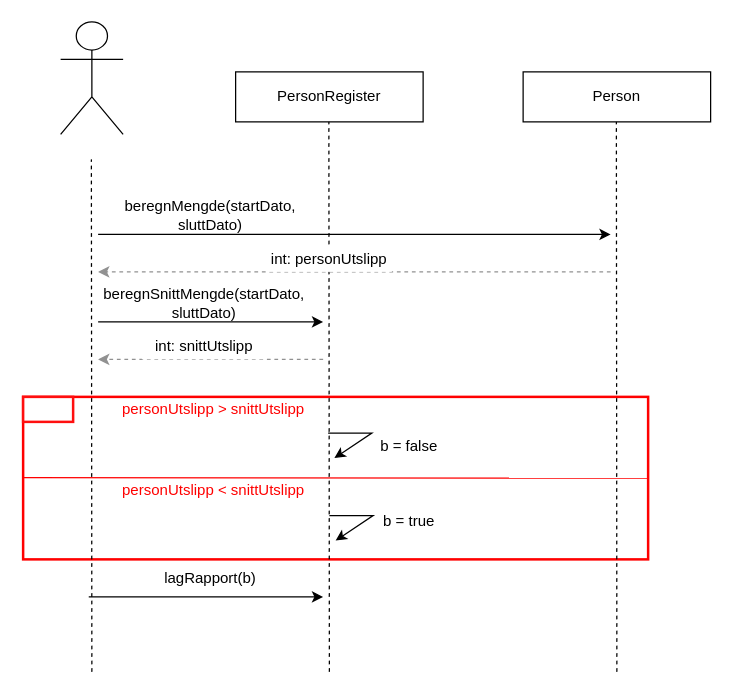
Image size: 733x695. Some labels were removed from this diagram. The shapes that lost their labels are listed below. From the top down, each one's box as (x1, y1, x2, y2) in pixels, then its label:
(59, 21, 123, 134): Innlogget bruker
(21, 395, 74, 422): ALT
